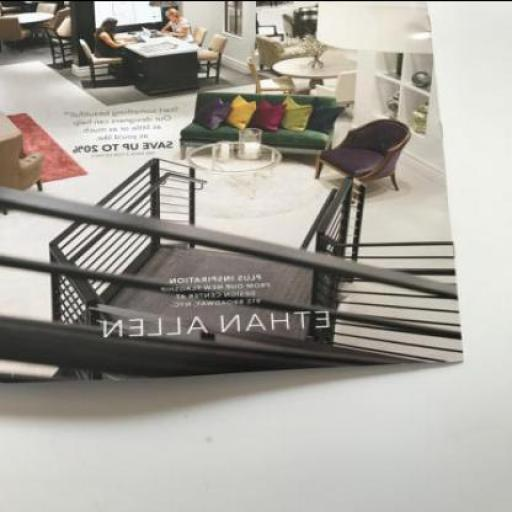paper: (0, 0, 462, 382)
